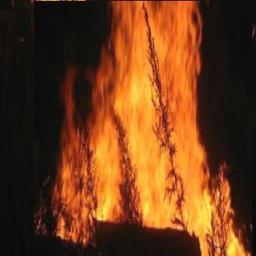Large fire: (48, 0, 254, 256)
